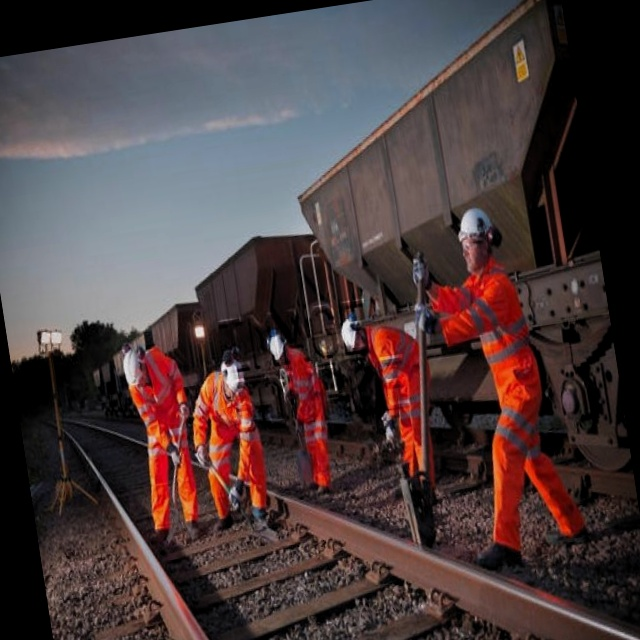Con_Casco: (453, 203, 500, 273)
Con_Chaleco: (463, 267, 539, 390), (367, 317, 422, 406), (287, 344, 328, 420)
